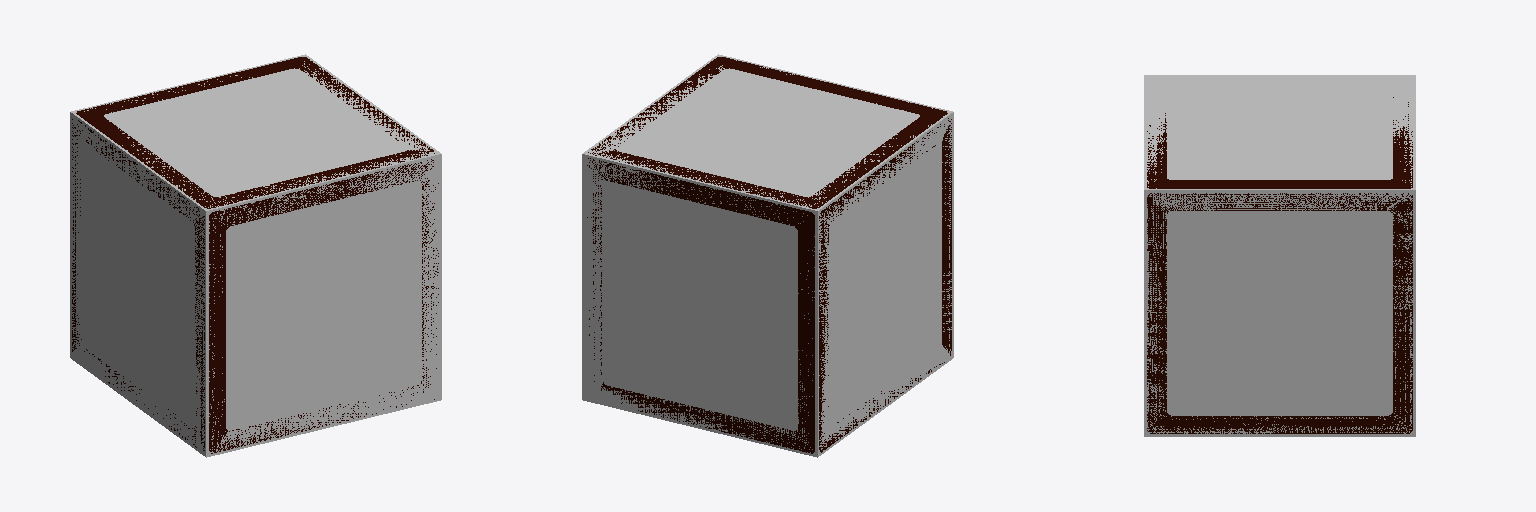
The model's file is crate.obj.
The picture shows the model from 3 angles: view 1: azimuth 30°, elevation 25°; view 2: azimuth 150°, elevation 25°; view 3: azimuth 270°, elevation 25°; orthographic projection.
Visible parts, largest first — view 1: COLLISION_1_Cube.002, Cube_Cube.001; view 2: COLLISION_1_Cube.002, Cube_Cube.001; view 3: COLLISION_1_Cube.002, Cube_Cube.001.
Boxes of the visible parts, <box> form: COLLISION_1_Cube.002: <box>70,54,441,457</box>; Cube_Cube.001: <box>72,57,438,453</box>; COLLISION_1_Cube.002: <box>582,54,953,457</box>; Cube_Cube.001: <box>587,57,951,453</box>; COLLISION_1_Cube.002: <box>1144,75,1415,436</box>; Cube_Cube.001: <box>1147,97,1412,433</box>.
Size of the model in its own units: 1 by 1 by 1.